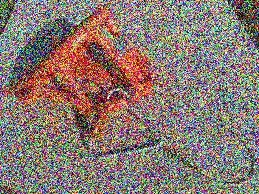chock: (0, 2, 155, 120)
